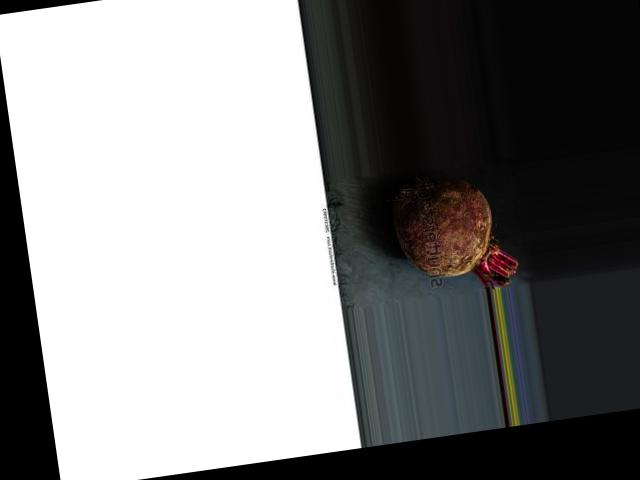beet: (388, 168, 520, 301)
